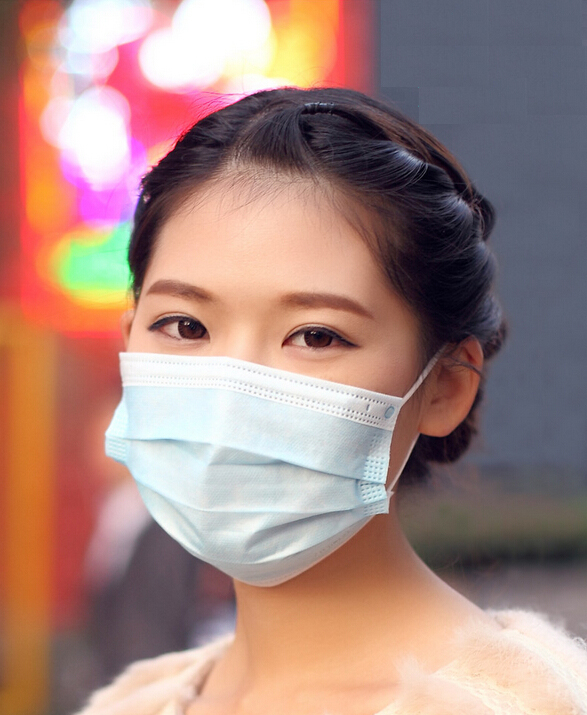face_mask: (129, 171, 412, 567)
